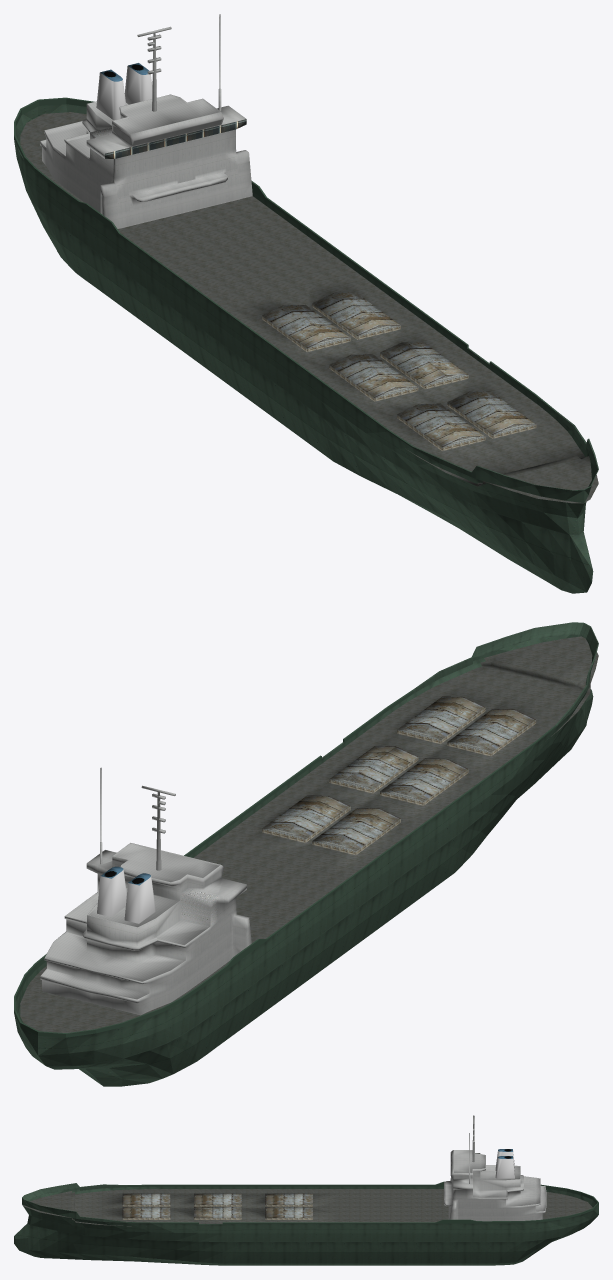
Rendered from Cargo Ship.dae.
3 views of the same model, one above another, from view 1: azimuth 30°, elevation 25°; view 2: azimuth 150°, elevation 25°; view 3: azimuth 270°, elevation 25° (orthographic). The views are drawn at different scales.
Parts seen in each view (by area): view 1: Hull, Floor, Ship, Crates, Smokestack, Glass; view 2: Hull, Floor, Ship, Crates, Smokestack; view 3: Hull, Floor, Ship, Crates, Smokestack.
Part boxes in pixels (x1=…): Hull: x1=14, y1=97, x2=598, y2=593; Floor: x1=20, y1=112, x2=598, y2=503; Ship: x1=40, y1=14, x2=252, y2=228; Crates: x1=262, y1=292, x2=536, y2=451; Smokestack: x1=96, y1=66, x2=152, y2=120; Glass: x1=105, y1=119, x2=246, y2=158; Hull: x1=14, y1=622, x2=598, y2=1086; Floor: x1=20, y1=636, x2=598, y2=1032; Ship: x1=40, y1=767, x2=251, y2=1015; Crates: x1=262, y1=696, x2=536, y2=855; Smokestack: x1=97, y1=869, x2=155, y2=923; Hull: x1=14, y1=1181, x2=598, y2=1265; Floor: x1=23, y1=1189, x2=592, y2=1226; Ship: x1=444, y1=1115, x2=546, y2=1221; Crates: x1=122, y1=1193, x2=312, y2=1219; Smokestack: x1=495, y1=1151, x2=514, y2=1178.
Bounding box in the file's own units: 35.23 × 59.59 × 227.
